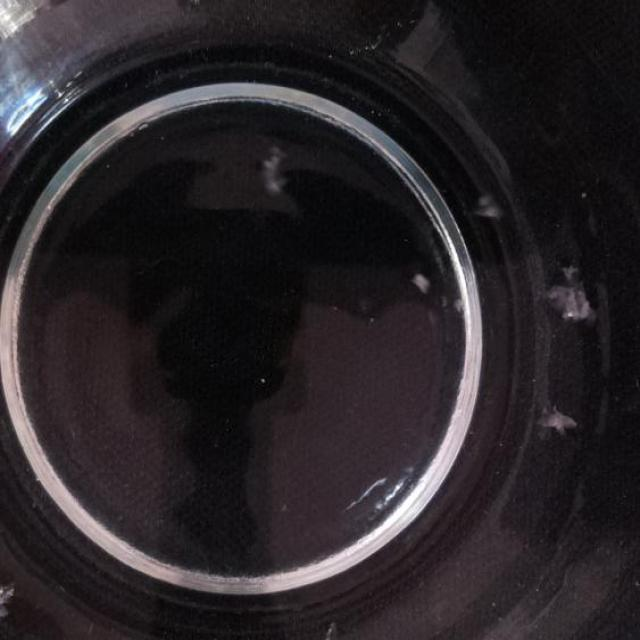fiber: (541, 268, 593, 322), (258, 147, 294, 199), (535, 399, 580, 440), (0, 575, 18, 626), (476, 191, 504, 222), (410, 272, 430, 296), (325, 621, 346, 640)
